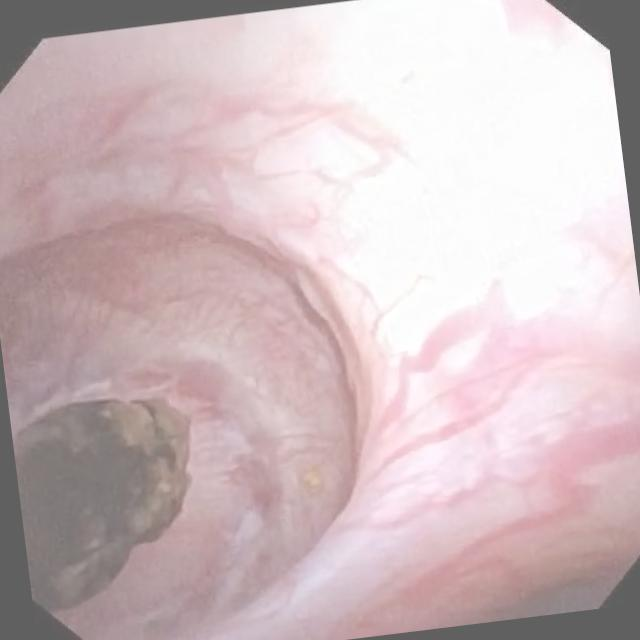stone-new: (14, 399, 190, 609)
